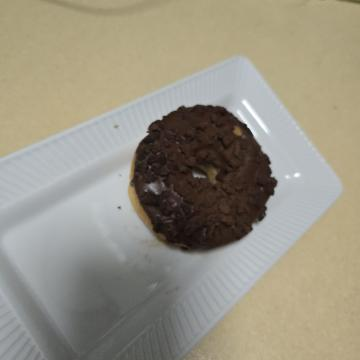doughnut: (93, 73, 274, 243)
